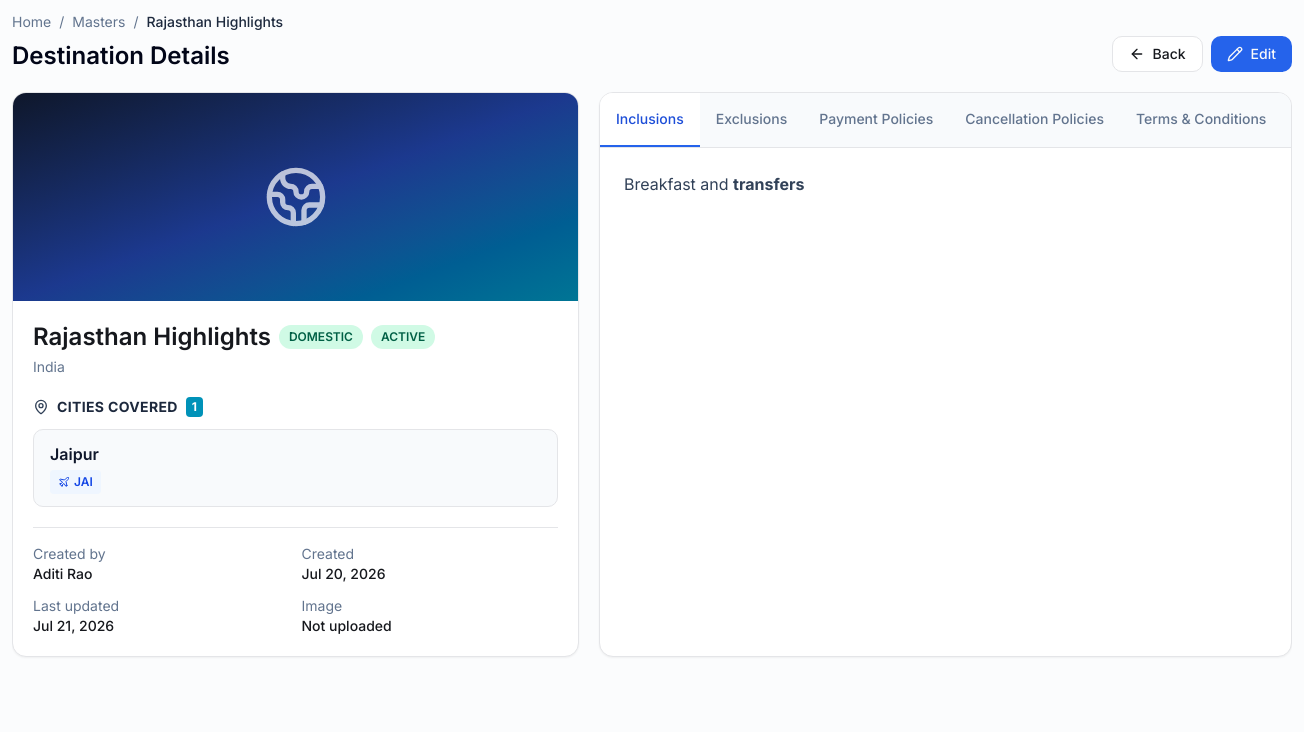
Test case: Phase 13A master pages › renders ordered cities and switches sanitized policy tabs in destination details
Check: the text "Rajasthan Highlights" is shown, box [146,13,283,30]
Check: the text "transfers" is shown, box [733,174,804,194]
Click the tab "Exclusions".
click(752, 120)  # box [700,93,803,147]
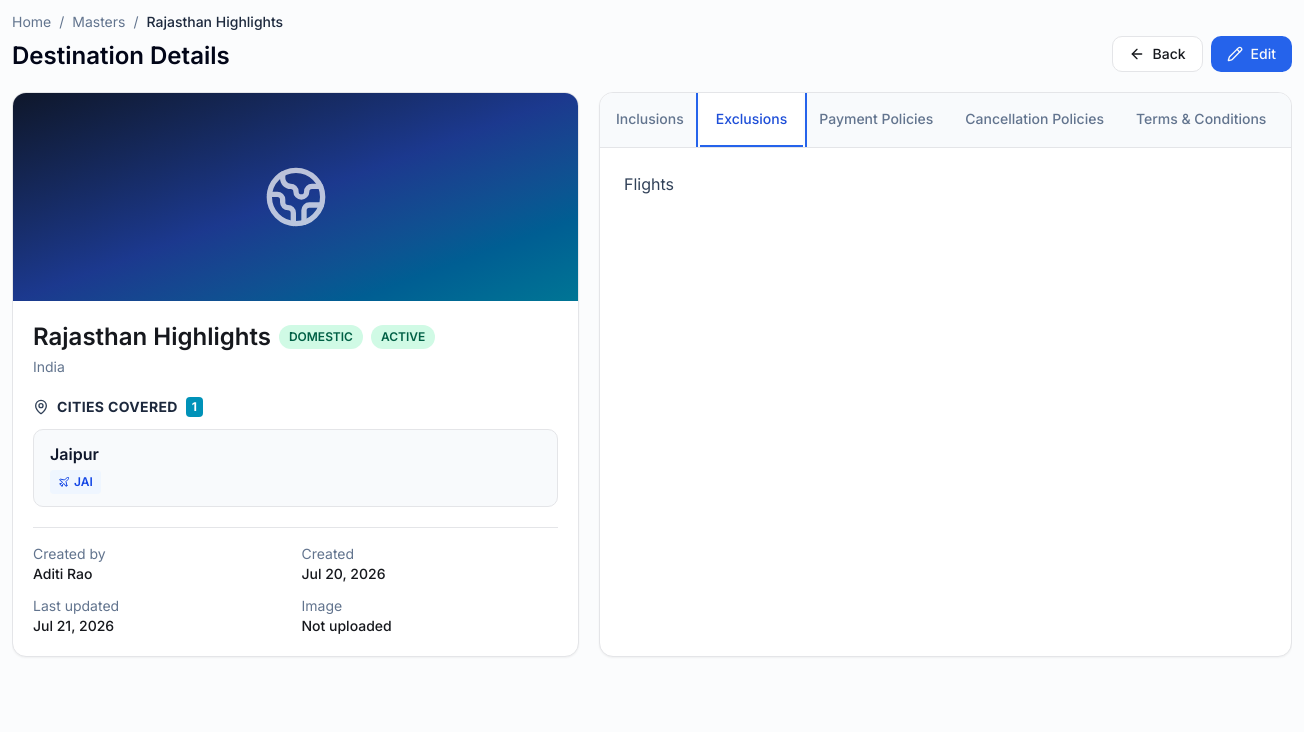
Check: the text "Flights" is shown, box [624,174,674,194]
Click the tab "Terms & Conditions".
click(1201, 120)  # box [1120,93,1282,147]
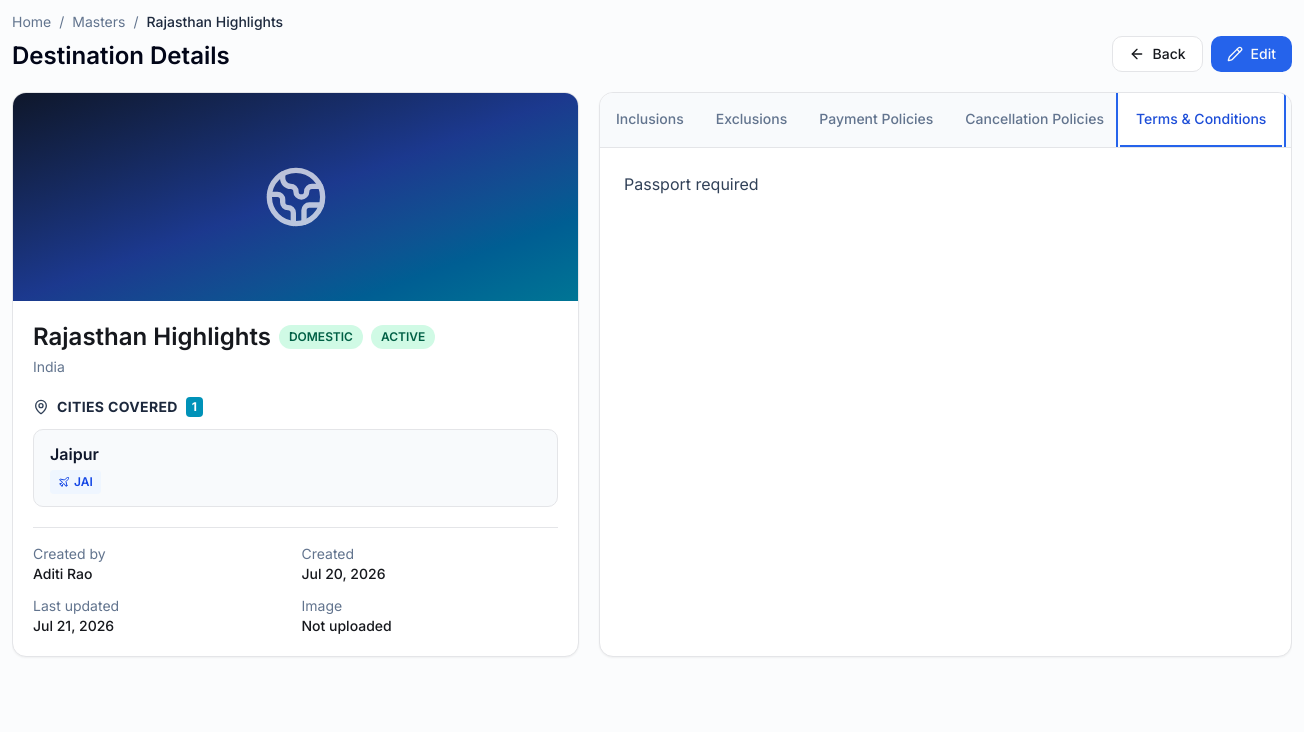
Check: the text "Passport required" is shown, box [624,174,759,194]
